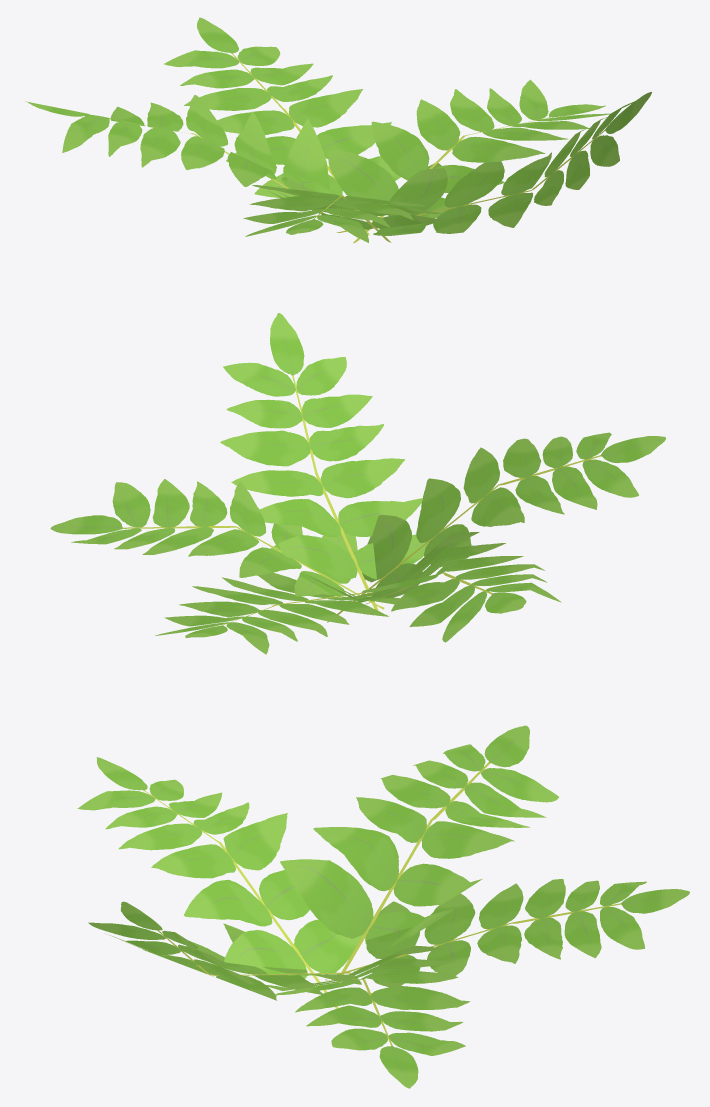
Rendered from Plant_Fern3.fbx.
3 views of the same model, one above another, from view 1: azimuth 30°, elevation 25°; view 2: azimuth 150°, elevation 25°; view 3: azimuth 270°, elevation 25° (orthographic). The views are drawn at different scales.
Parts seen in each view (by area): view 1: Fern1; view 2: Fern1; view 3: Fern1.
Boxes of the visible parts, left/top/right/bottom form: Fern1: left=25, top=17, right=651, bottom=243; Fern1: left=50, top=313, right=665, bottom=654; Fern1: left=77, top=725, right=689, bottom=1088.
Size of the model in its own units: 15.62 by 4.85 by 14.66.
